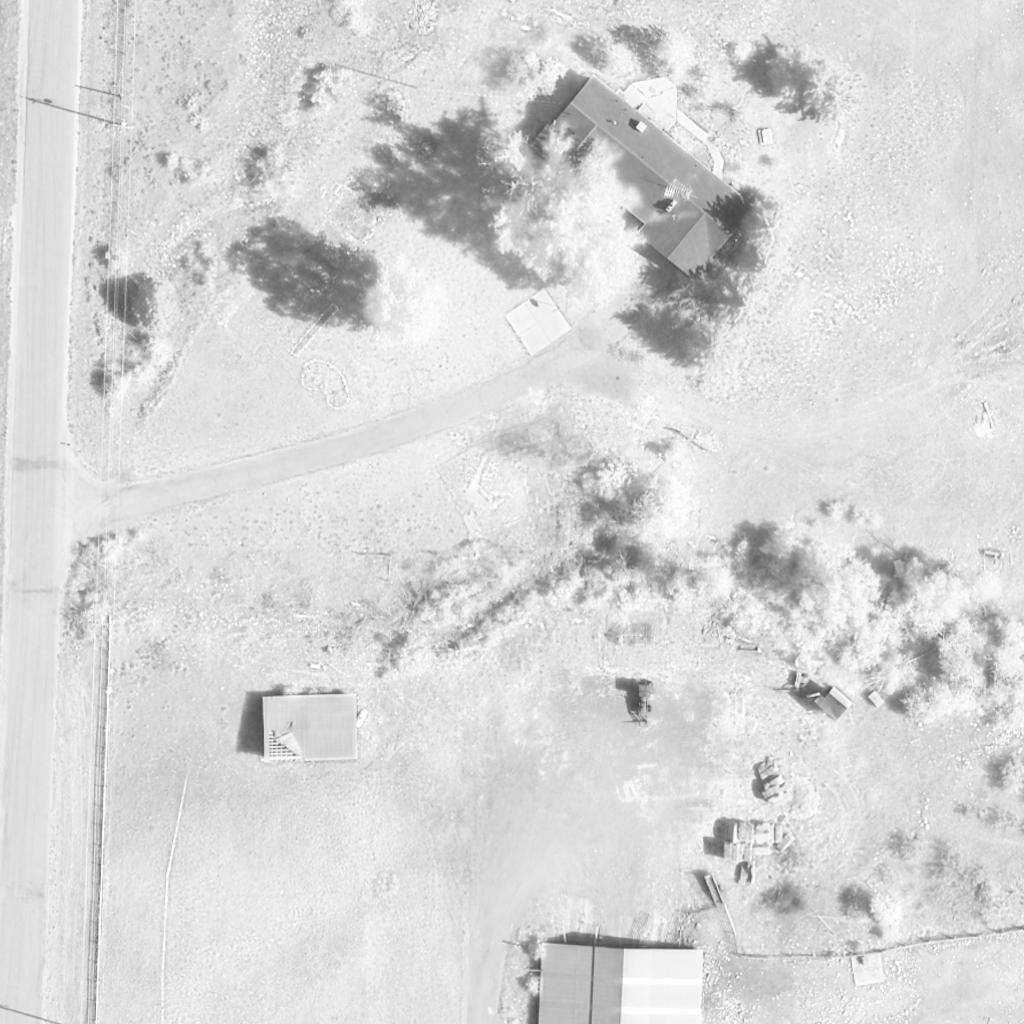vehicle: (631, 680, 657, 718)
